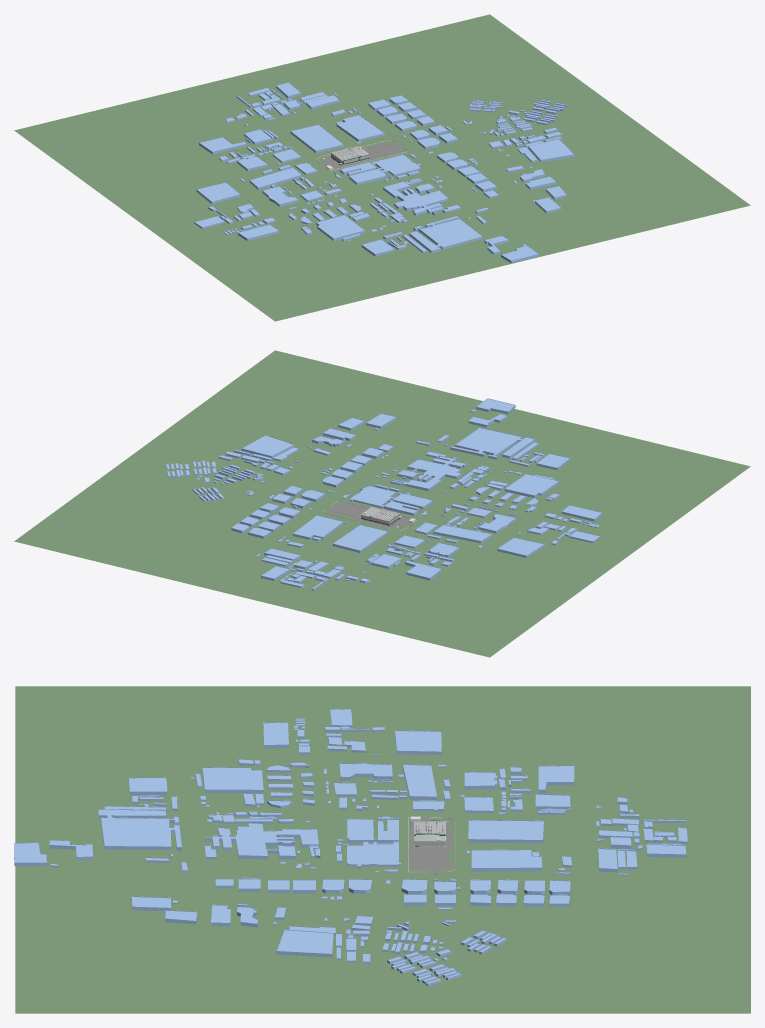
File: SND_yuanqu.glb
The picture shows the model from 3 angles, top to bottom: view 1: azimuth 30°, elevation 25°; view 2: azimuth 150°, elevation 25°; view 3: azimuth 270°, elevation 25°; orthographic projection. The views are drawn at different scales.
Size of the model in its own units: 1928240 by 26011 by 1835494.
